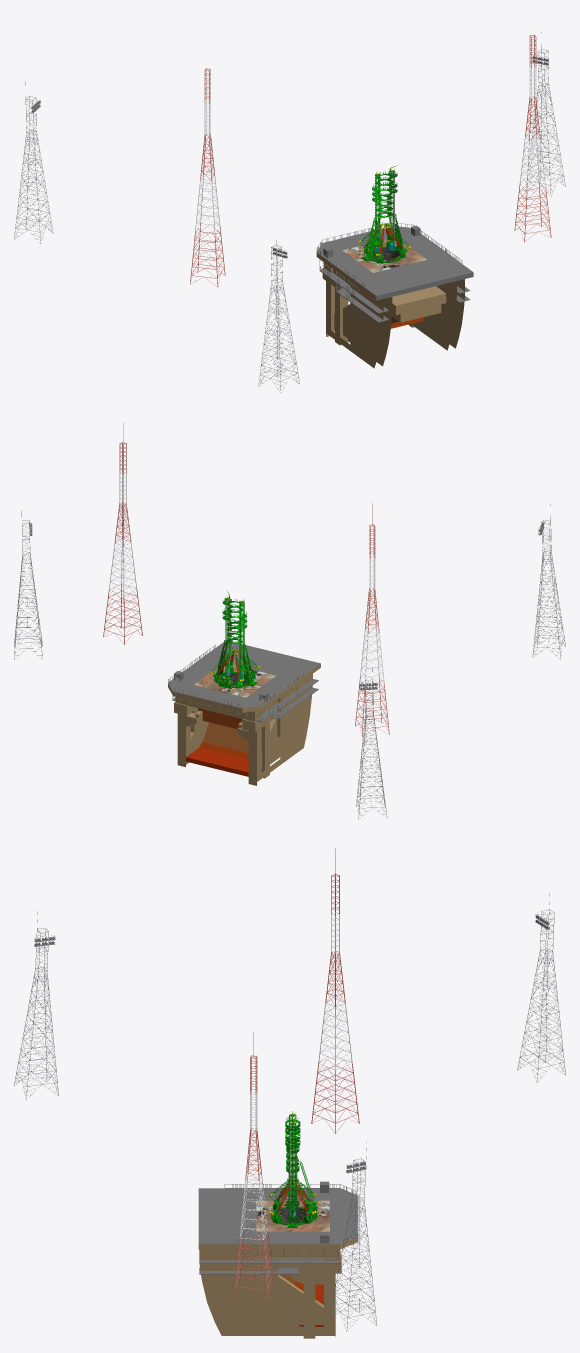
The picture shows the model from 3 angles, top to bottom: view 1: azimuth 30°, elevation 25°; view 2: azimuth 150°, elevation 25°; view 3: azimuth 270°, elevation 25°; orthographic projection. The views are drawn at different scales.
Parts seen in each view (by area): view 1: Site31 source 5, Site31 source 3; view 2: Site31 source 5, Site31 source 3; view 3: Site31 source 5, Site31 source 3.
Part boxes in pixels (left/top/right/bottom): Site31 source 5: left=14, top=31, right=565, bottom=393; Site31 source 3: left=342, top=194, right=426, bottom=272; Site31 source 5: left=14, top=422, right=565, bottom=819; Site31 source 3: left=194, top=623, right=275, bottom=697; Site31 source 5: left=14, top=848, right=565, bottom=1338; Site31 source 3: left=256, top=1149, right=329, bottom=1231.
Size of the model in its own units: 217 by 141 by 187.
Materials: 2 (2 with a texture image).
